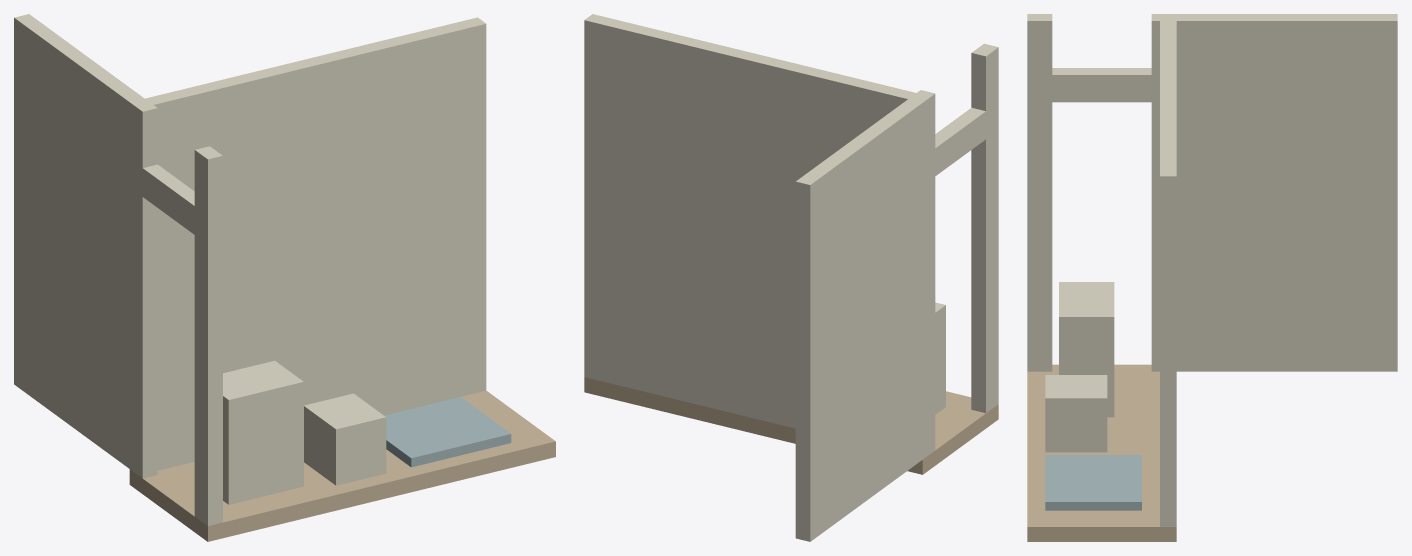
3 views of the same model, side by side, from view 1: azimuth 30°, elevation 25°; view 2: azimuth 150°, elevation 25°; view 3: azimuth 270°, elevation 25° (orthographic). The views are drawn at different scales.
Parts seen in each view (by area): view 1: BATHN_2, BEDW_1, GROUND_0, BASIN_7, BWEND_6, WC_9, SHOWER_8, BATHD-j1_3, BATHD-lintel_5, BATHD-j2_4; view 2: BATHN_2, BEDW_1, BWEND_6, GROUND_0, BATHD-j2_4, BATHD-lintel_5, BATHD-j1_3, BASIN_7; view 3: BEDW_1, GROUND_0, BATHN_2, BWEND_6, BASIN_7, SHOWER_8, WC_9, BATHD-lintel_5, BATHD-j2_4, BATHD-j1_3.
Boxes of the visible parts, <box> form: BATHN_2: <box>145,17,486,470</box>; BEDW_1: <box>14,14,157,478</box>; GROUND_0: <box>129,390,555,541</box>; BASIN_7: <box>223,360,303,504</box>; BWEND_6: <box>194,146,222,525</box>; WC_9: <box>304,393,386,485</box>; SHOWER_8: <box>384,397,511,467</box>; BATHD-j1_3: <box>137,173,157,477</box>; BATHD-lintel_5: <box>142,164,194,234</box>; BATHD-j2_4: <box>194,215,200,520</box>; BATHN_2: <box>584,14,915,428</box>; BEDW_1: <box>795,90,935,541</box>; BWEND_6: <box>971,43,998,412</box>; GROUND_0: <box>584,377,998,474</box>; BATHD-j2_4: <box>971,116,991,413</box>; BATHD-lintel_5: <box>935,107,985,175</box>; BATHD-j1_3: <box>930,159,935,453</box>; BASIN_7: <box>935,302,945,414</box>; BEDW_1: <box>1151,14,1397,371</box>; GROUND_0: <box>1027,364,1176,541</box>; BATHN_2: <box>1160,21,1176,526</box>; BWEND_6: <box>1027,14,1052,371</box>; BASIN_7: <box>1059,282,1114,417</box>; SHOWER_8: <box>1045,455,1141,510</box>; WC_9: <box>1045,375,1107,452</box>; BATHD-lintel_5: <box>1052,68,1151,102</box>; BATHD-j2_4: <box>1041,83,1052,371</box>; BATHD-j1_3: <box>1151,85,1159,371</box>.
Bounding box in the file's own units: 2.78 × 2.92 × 2.68.
